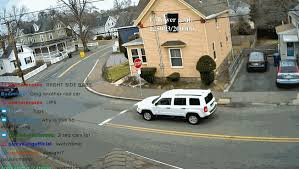SS: (133, 59, 143, 69)
